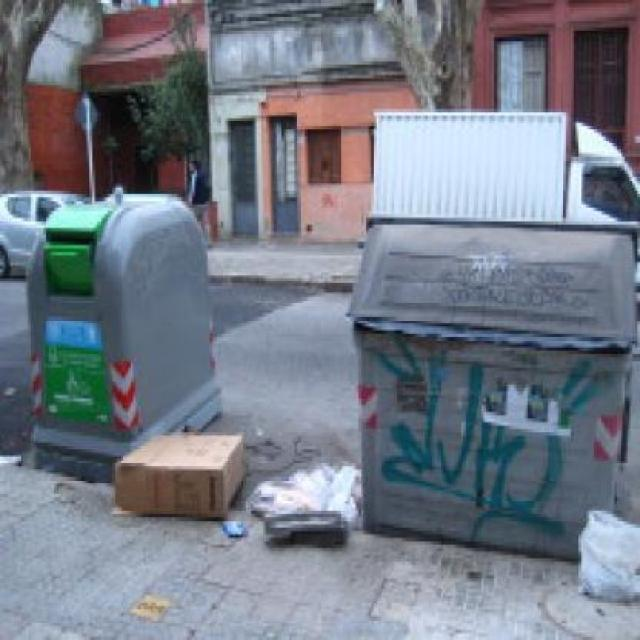garbage: (111, 432, 250, 510), (249, 469, 362, 538), (577, 505, 638, 594), (223, 519, 248, 536), (0, 449, 18, 463)
